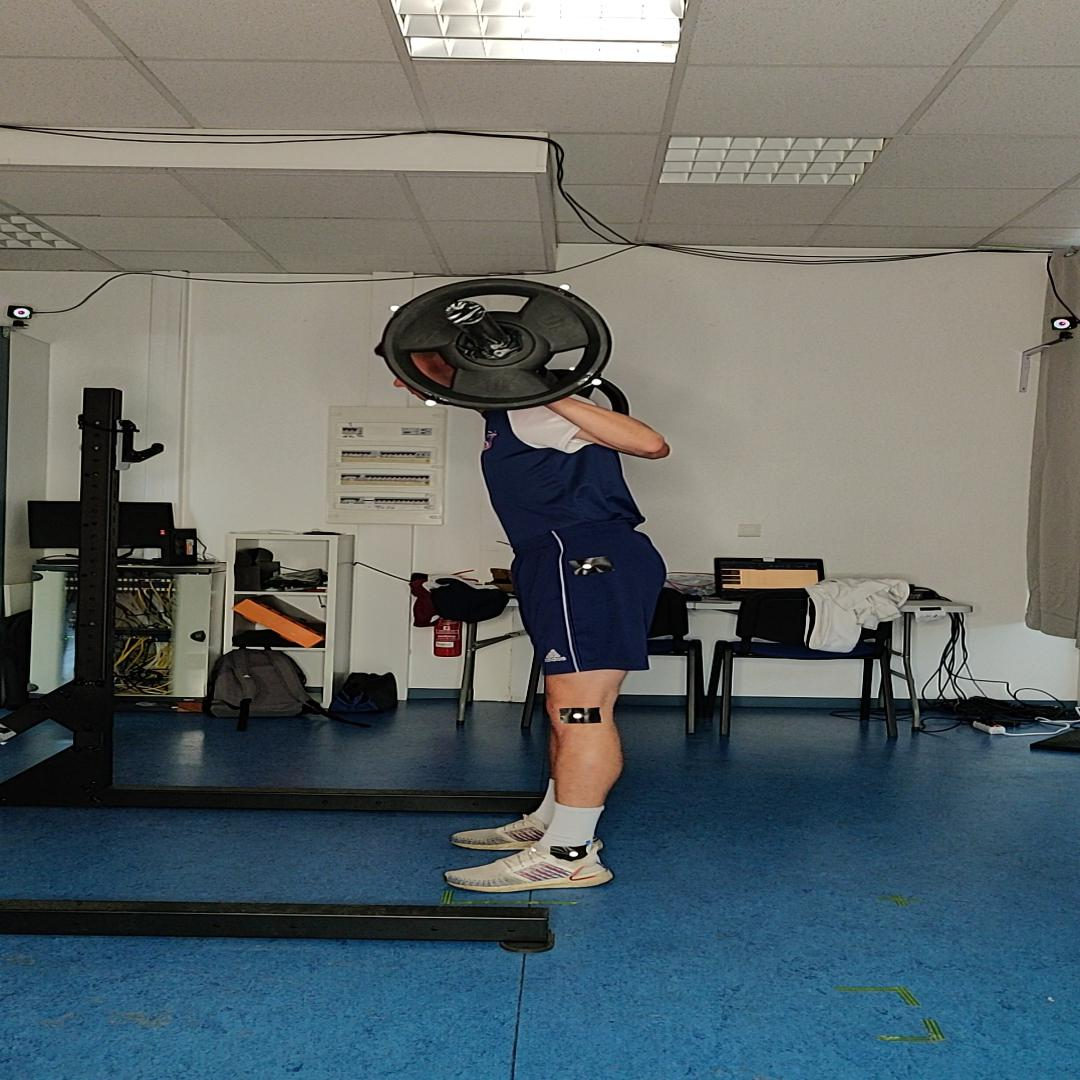Bar: (444, 300, 486, 325)
Barbell: (383, 278, 612, 411)
